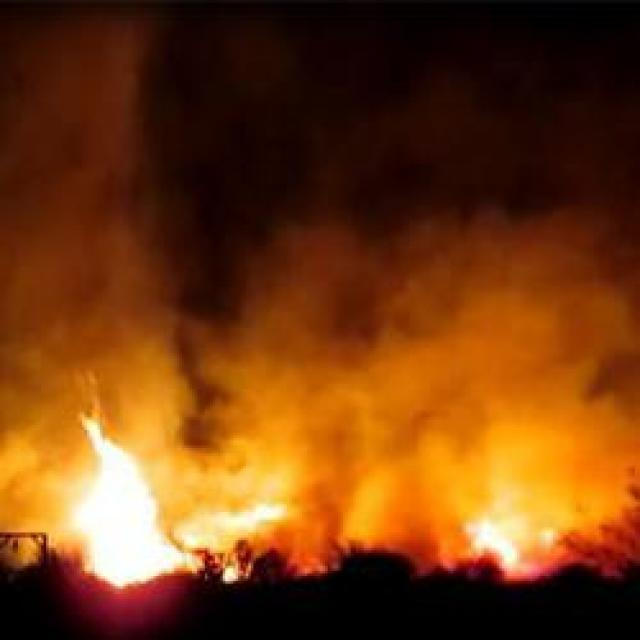fire: (26, 395, 640, 599)
